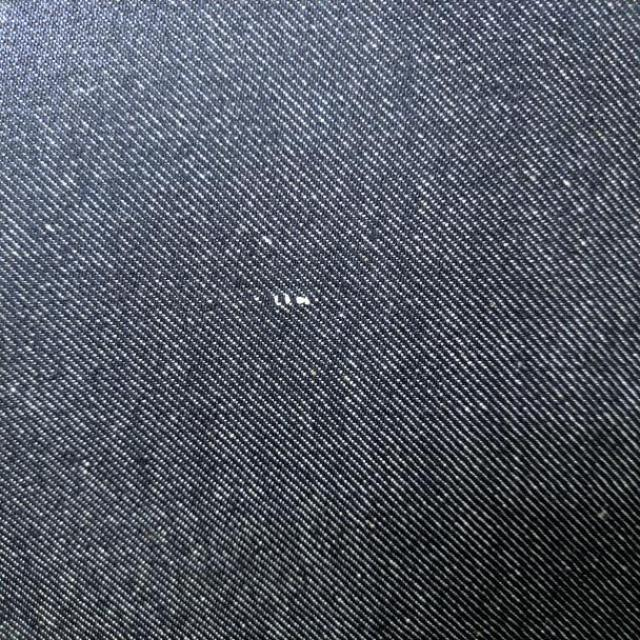Knot: (272, 294, 312, 309)
